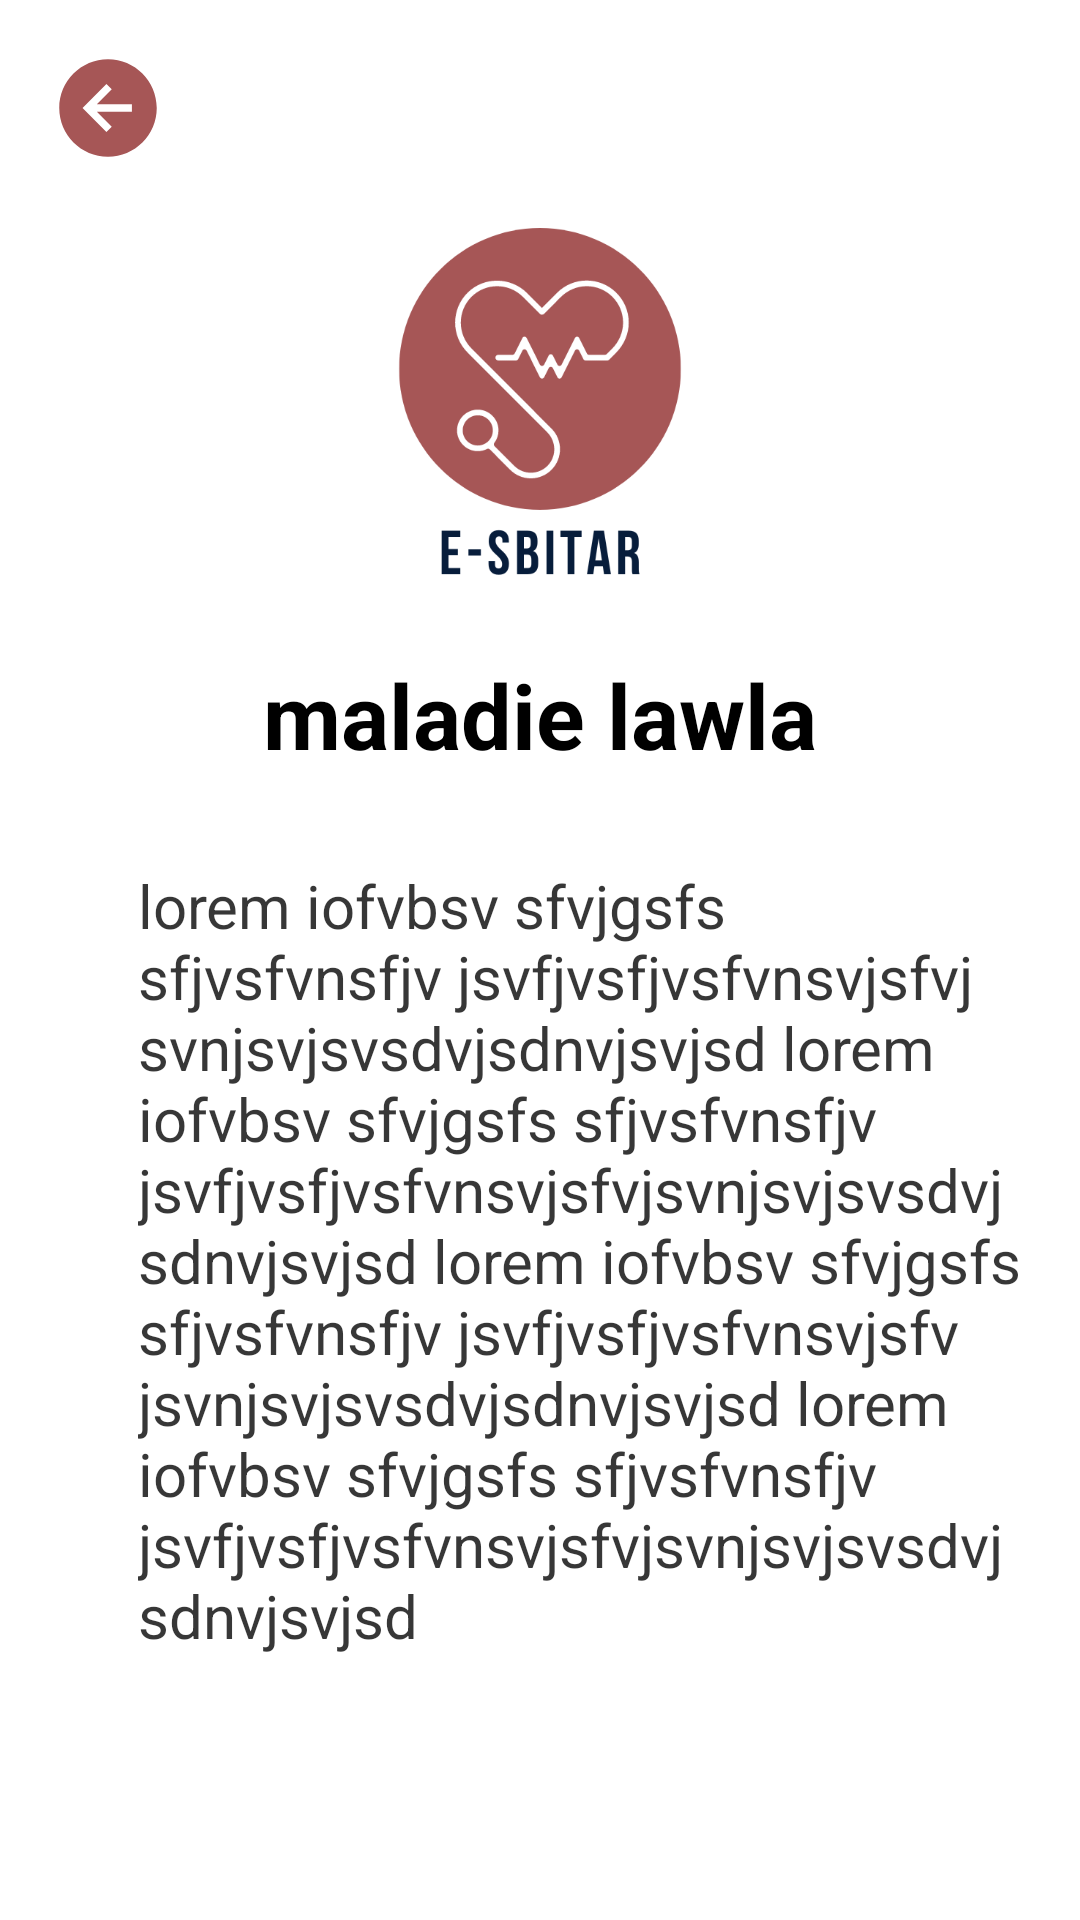

Icon bounding boxes for this 1080×1920 phone screenshot, format {"x1": x1, "y1": y1, "x2": x2, "y2": y2}:
arrow back circle sharp: {"x1": 59, "y1": 59, "x2": 157, "y2": 157}
